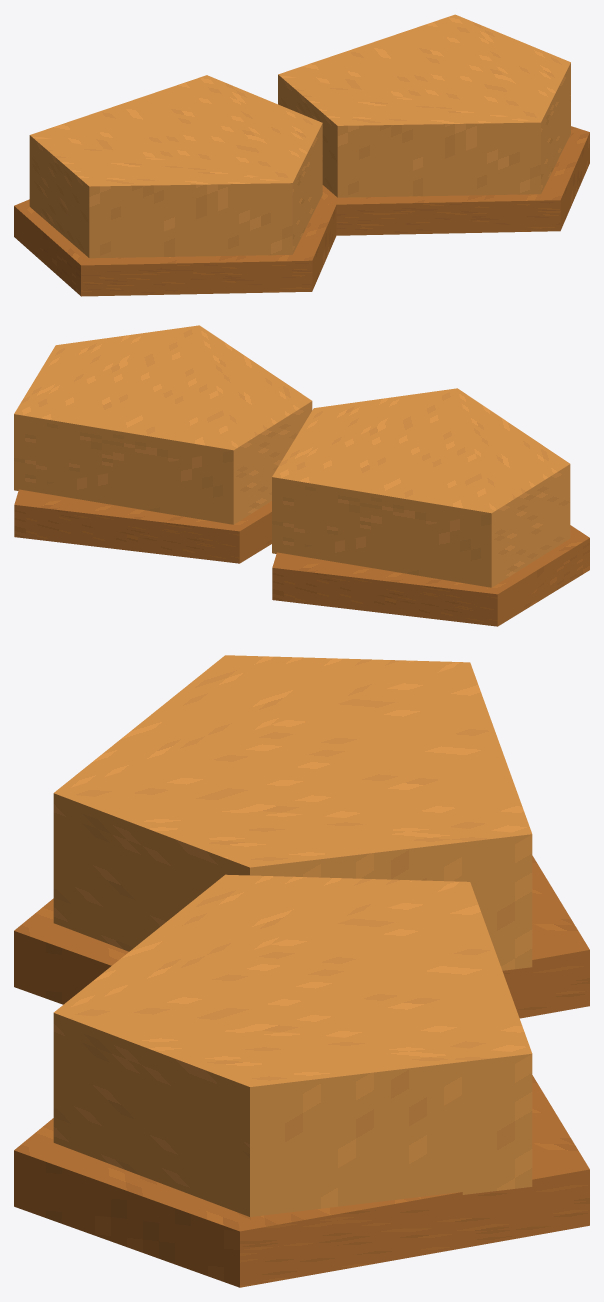
Rendered from pumpkin_cut.glb.
3 views of the same model, one above another, from view 1: azimuth 30°, elevation 25°; view 2: azimuth 150°, elevation 25°; view 3: azimuth 270°, elevation 25° (orthographic). The views are drawn at different scales.
Parts seen in each view (by area): view 1: block_orange edible flesh (×2), block_rind (×2); view 2: block_orange edible flesh (×2), block_rind (×2); view 3: block_orange edible flesh (×2), block_rind (×2).
Part boxes in pixels (x1,y1,x2,y2): block_orange edible flesh (×2): [29, 14, 570, 258]; block_rind (×2): [14, 126, 589, 296]; block_orange edible flesh (×2): [14, 325, 570, 587]; block_rind (×2): [14, 489, 589, 626]; block_orange edible flesh (×2): [53, 655, 532, 1216]; block_rind (×2): [14, 855, 589, 1287].
Size of the model in its own units: 0.1437 by 0.0272 by 0.0763.
Materials: 1 (1 with a texture image).
